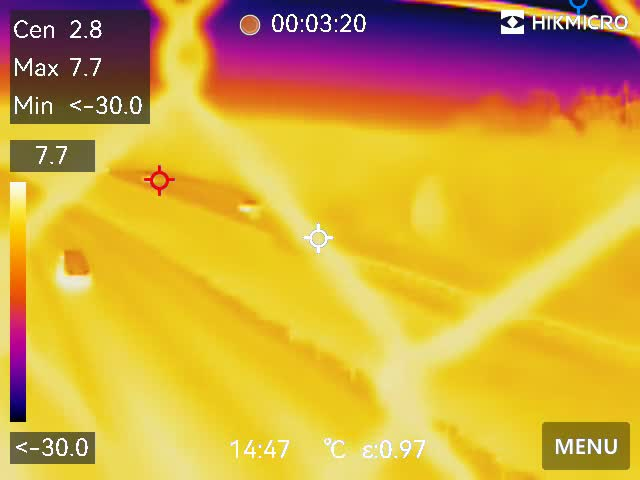vehicle: (57, 241, 93, 283)
